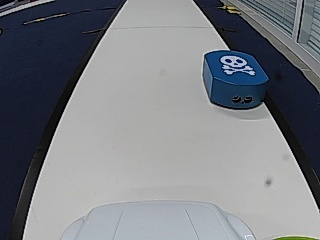danger: (221, 54, 254, 75)
